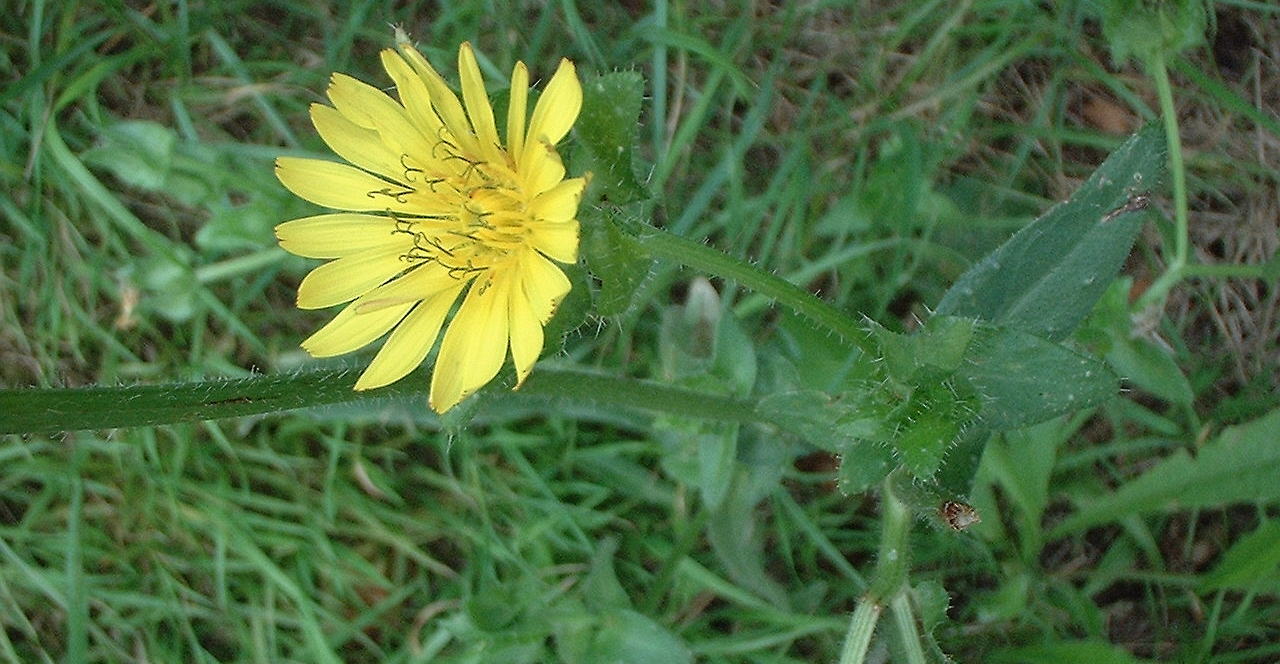dandelion: (277, 78, 608, 395)
